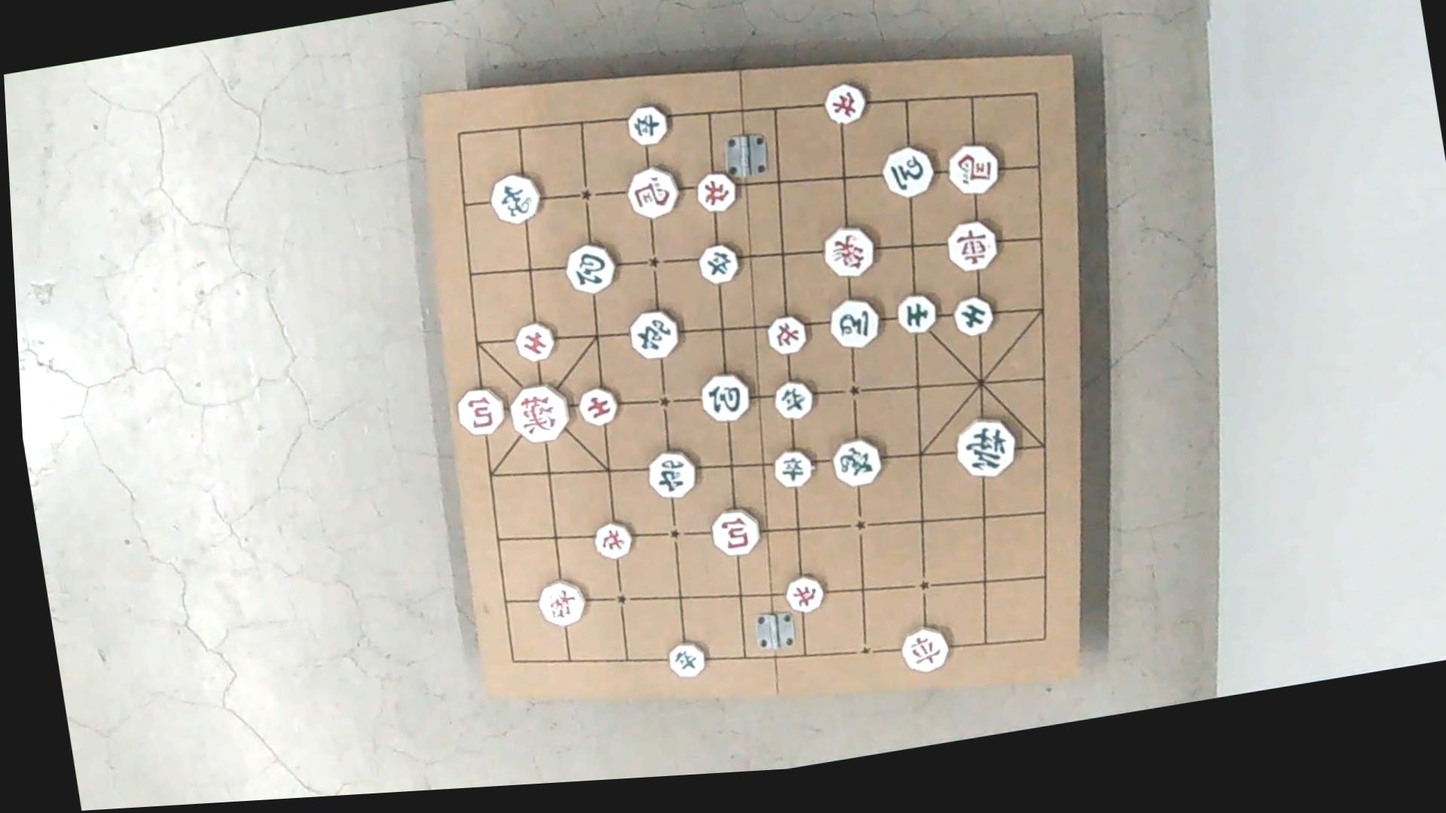cha_green: (645, 445, 699, 500), (627, 308, 681, 362)
cha_red: (943, 217, 999, 273), (896, 623, 949, 674)
jol_green: (624, 104, 670, 148), (773, 378, 817, 421), (698, 242, 741, 286), (773, 444, 816, 488), (667, 639, 709, 680)
jol_red: (823, 80, 868, 126), (693, 167, 737, 212), (765, 312, 808, 355), (783, 571, 825, 614), (589, 519, 632, 561)
ma_green: (825, 294, 883, 352), (880, 144, 936, 199)
ma_red: (944, 140, 1000, 196), (624, 163, 680, 218)
po_green: (562, 239, 618, 294), (697, 369, 751, 423)
po_red: (456, 383, 509, 437), (709, 506, 762, 559)
sa_green: (894, 291, 938, 336), (951, 294, 995, 338)
sa_red: (574, 385, 620, 427), (511, 321, 554, 363)
sang_green: (488, 172, 541, 227), (830, 436, 883, 489)
sang_red: (819, 224, 874, 279), (534, 577, 585, 629)
wang_green: (953, 415, 1019, 481)
wang_red: (505, 380, 570, 444)
